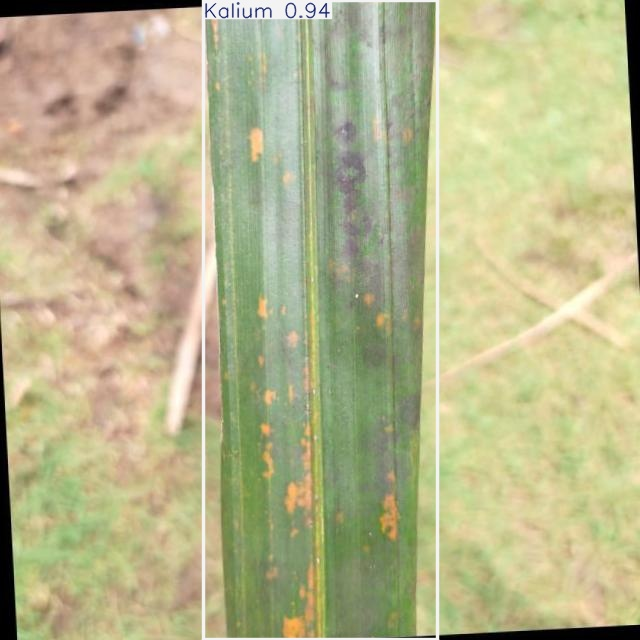Kalium: (204, 0, 437, 640)
